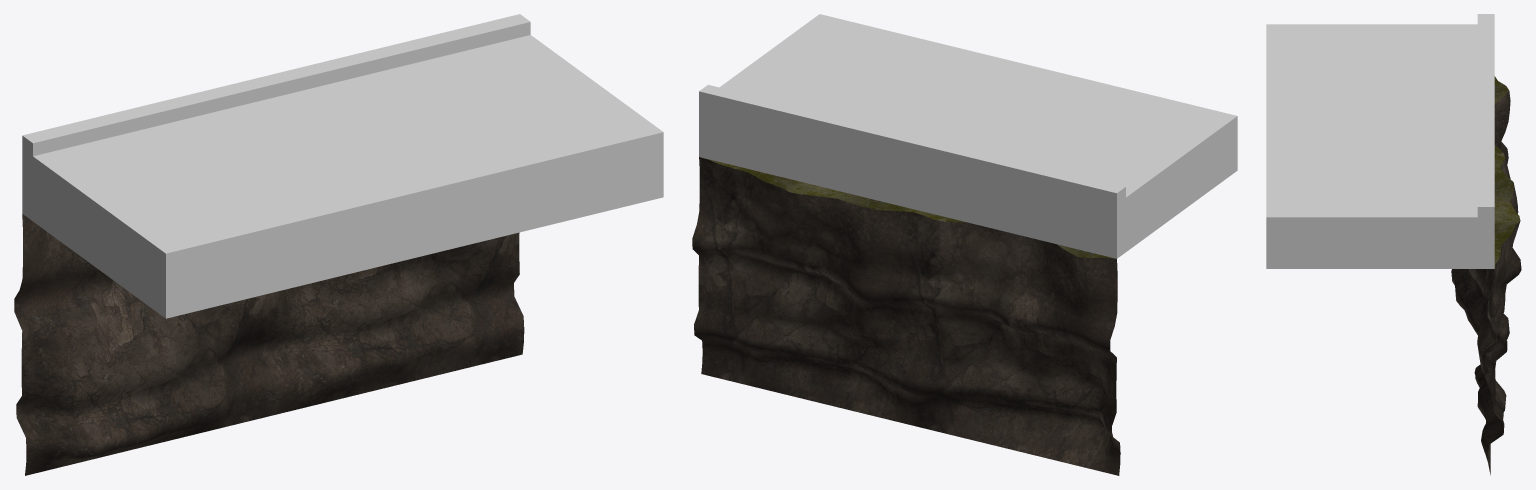
The model's file is cliff_edge_straight_8m.glb.
3 views of the same model, side by side, from view 1: azimuth 30°, elevation 25°; view 2: azimuth 150°, elevation 25°; view 3: azimuth 270°, elevation 25° (orthographic). The views are drawn at different scales.
Parts seen in each view (by area): view 1: col_walk_cliff_edge_straight_8m, cliff_edge_straight_8m, col_block_rim_cliff_edge_straight_8m_0; view 2: cliff_edge_straight_8m, col_walk_cliff_edge_straight_8m, col_block_rim_cliff_edge_straight_8m_0; view 3: col_walk_cliff_edge_straight_8m, cliff_edge_straight_8m, col_block_rim_cliff_edge_straight_8m_0.
Part boxes in pixels (x1,y1,x2,y2): col_walk_cliff_edge_straight_8m: [22, 35, 663, 318]; cliff_edge_straight_8m: [14, 214, 524, 475]; col_block_rim_cliff_edge_straight_8m_0: [22, 14, 530, 220]; cliff_edge_straight_8m: [692, 157, 1120, 475]; col_walk_cliff_edge_straight_8m: [699, 14, 1237, 257]; col_block_rim_cliff_edge_straight_8m_0: [699, 85, 1125, 258]; col_walk_cliff_edge_straight_8m: [1266, 24, 1494, 268]; cliff_edge_straight_8m: [1451, 76, 1521, 475]; col_block_rim_cliff_edge_straight_8m_0: [1477, 14, 1494, 268].
Bounding box in the file's own units: 8 × 5.2 × 4.47.
2 materials, 2 textured.
